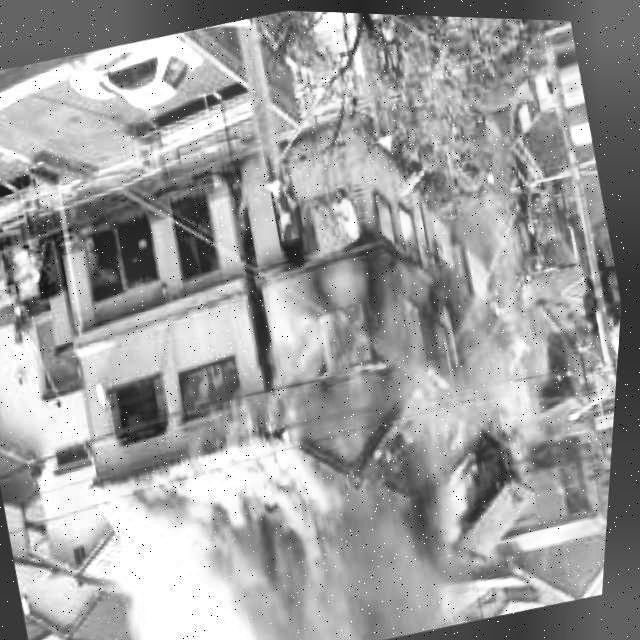Fire: (202, 119, 486, 496), (200, 490, 339, 625), (167, 344, 253, 419)
Smoke: (105, 410, 471, 640)
